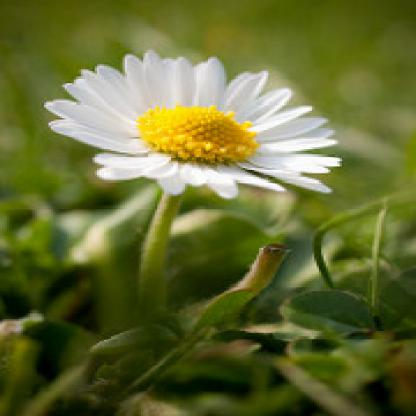ASTER: (31, 26, 364, 227)
